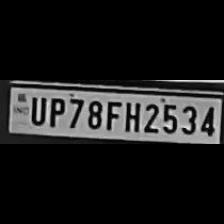2: (141, 99, 159, 133)
3: (178, 102, 198, 134)
4: (198, 102, 216, 136)
5: (160, 99, 178, 133)
7: (64, 95, 84, 129)
8: (84, 96, 103, 130)
F: (104, 97, 122, 131)
H: (122, 98, 140, 132)
P: (45, 93, 65, 126)
U: (27, 94, 46, 126)
